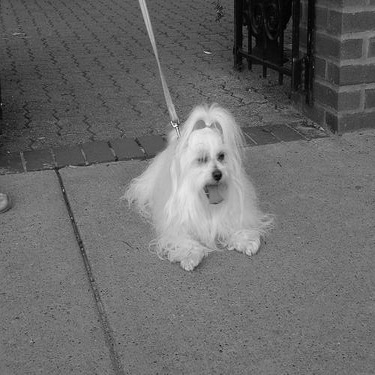dog: (110, 99, 280, 278)
